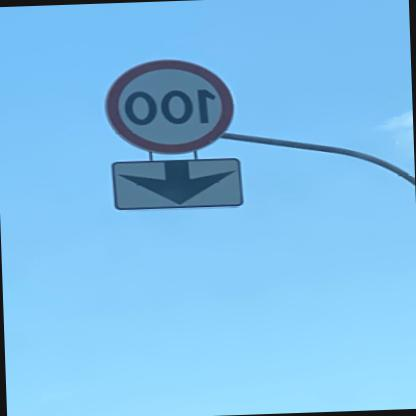speedlimit: (104, 55, 238, 156)
